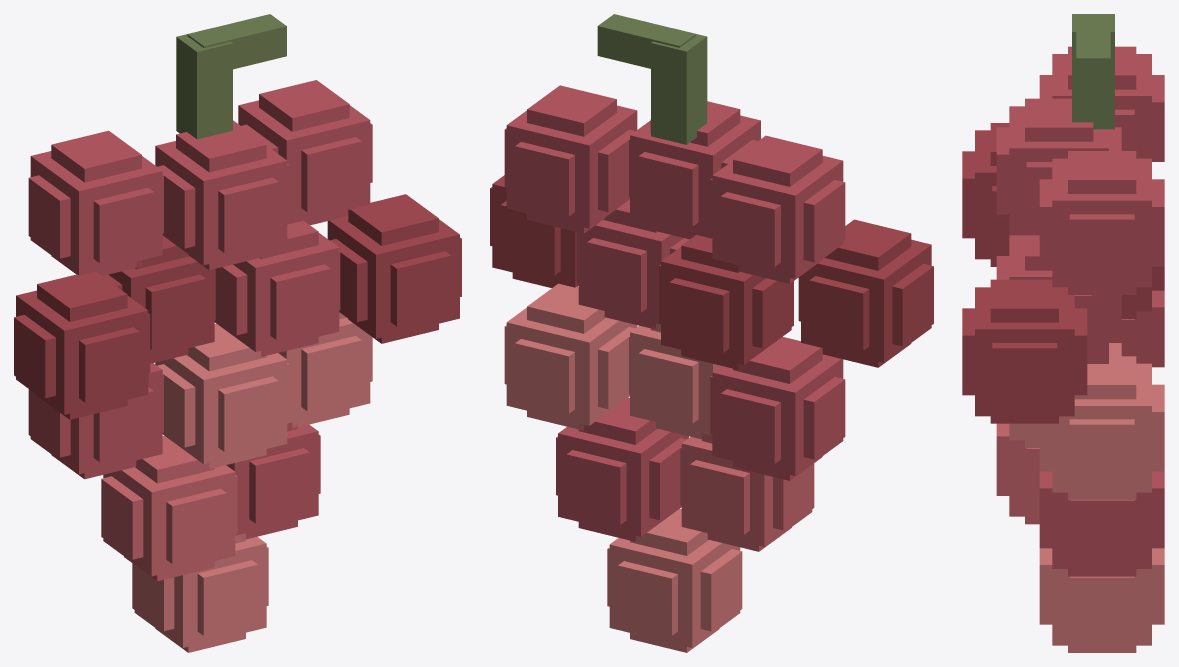
Rendered from GR-03_flame_seedless.glb.
The picture shows the model from 3 angles, left to right: view 1: azimuth 30°, elevation 25°; view 2: azimuth 150°, elevation 25°; view 3: azimuth 270°, elevation 25°; orthographic projection. The views are drawn at different scales.
Visible parts, largest first — view 1: Flame Seedless · original workbench cubes; view 2: Flame Seedless · original workbench cubes; view 3: Flame Seedless · original workbench cubes.
Boxes of the visible parts, left/top/right/bottom form: Flame Seedless · original workbench cubes: left=14, top=14, right=461, bottom=652; Flame Seedless · original workbench cubes: left=490, top=14, right=933, bottom=652; Flame Seedless · original workbench cubes: left=962, top=14, right=1164, bottom=652.
Bounding box in the file's own units: 0.1156 × 0.1588 × 0.0471.
